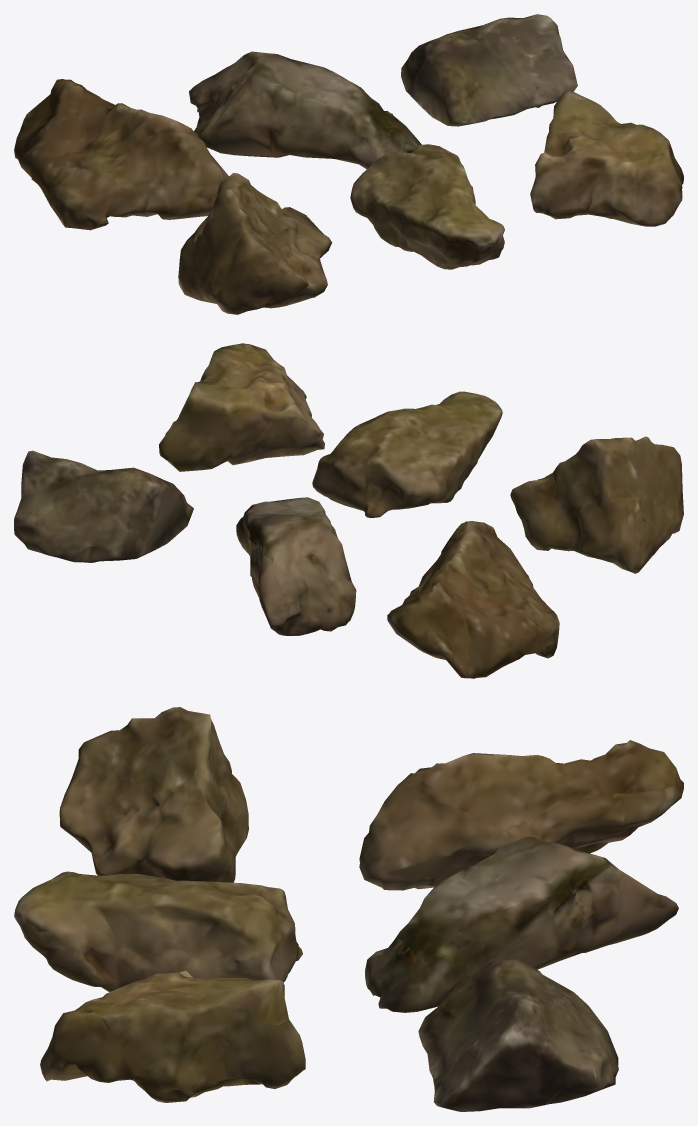
File: rock_moss_set_01_lod1.glb
3 renders of one model, top to bottom at view 1: azimuth 30°, elevation 25°; view 2: azimuth 150°, elevation 25°; view 3: azimuth 270°, elevation 25°, orthographic. The views are drawn at different scales.
Visible parts, largest first — view 1: rock_moss_set_01_rock01, rock_moss_set_01_rock02, rock_moss_set_01_rock06, rock_moss_set_01_rock04, rock_moss_set_01_rock03, rock_moss_set_01_rock05; view 2: rock_moss_set_01_rock04, rock_moss_set_01_rock01, rock_moss_set_01_rock05, rock_moss_set_01_rock03, rock_moss_set_01_rock06, rock_moss_set_01_rock02; view 3: rock_moss_set_01_rock01, rock_moss_set_01_rock02, rock_moss_set_01_rock05, rock_moss_set_01_rock06, rock_moss_set_01_rock04, rock_moss_set_01_rock03.
Part boxes in pixels (box(x1,y1,x2,y2)): rock_moss_set_01_rock01: box(14, 79, 228, 230); rock_moss_set_01_rock02: box(189, 51, 421, 169); rock_moss_set_01_rock06: box(530, 89, 683, 226); rock_moss_set_01_rock04: box(178, 173, 332, 314); rock_moss_set_01_rock03: box(401, 14, 577, 126); rock_moss_set_01_rock05: box(350, 144, 504, 269); rock_moss_set_01_rock04: box(510, 436, 683, 573); rock_moss_set_01_rock01: box(387, 521, 559, 678); rock_moss_set_01_rock05: box(312, 391, 502, 517); rock_moss_set_01_rock03: box(14, 450, 193, 562); rock_moss_set_01_rock06: box(159, 343, 324, 471); rock_moss_set_01_rock02: box(236, 497, 356, 635); rock_moss_set_01_rock01: box(359, 740, 683, 890); rock_moss_set_01_rock02: box(365, 836, 678, 1012); rock_moss_set_01_rock05: box(14, 871, 302, 991); rock_moss_set_01_rock06: box(40, 970, 305, 1102); rock_moss_set_01_rock04: box(59, 707, 248, 882); rock_moss_set_01_rock03: box(418, 959, 618, 1111).
Bounding box in the file's own units: 8 × 1.76 × 6.94.
1 material, 1 textured.
